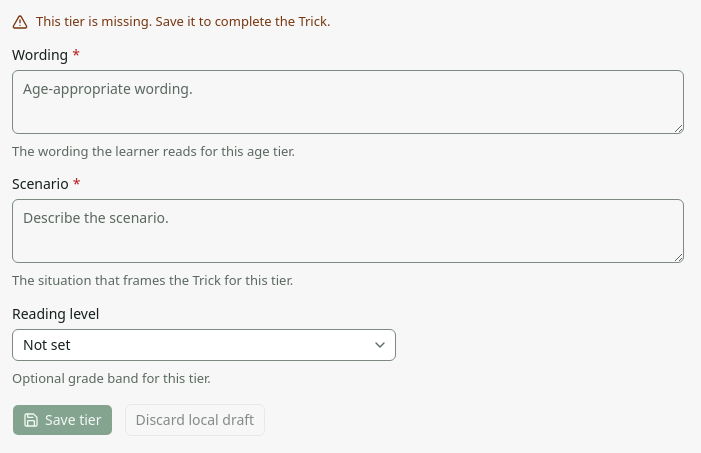
Test case: VariantEditor › warns about a missing tier and saves it via the variant endpoint
Expected: the text "This tier is missing. Save it to complete the Trick." is shown, [12, 12, 330, 30]
In the text box labelled "Wording": (348, 102) [12, 70, 684, 134], type "New wording"
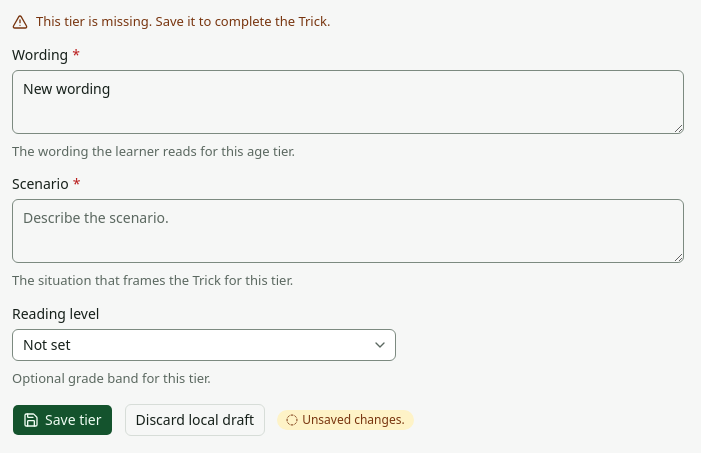
In the text box labelled "Scenario": (348, 231) [12, 199, 684, 263], type "New scenario"
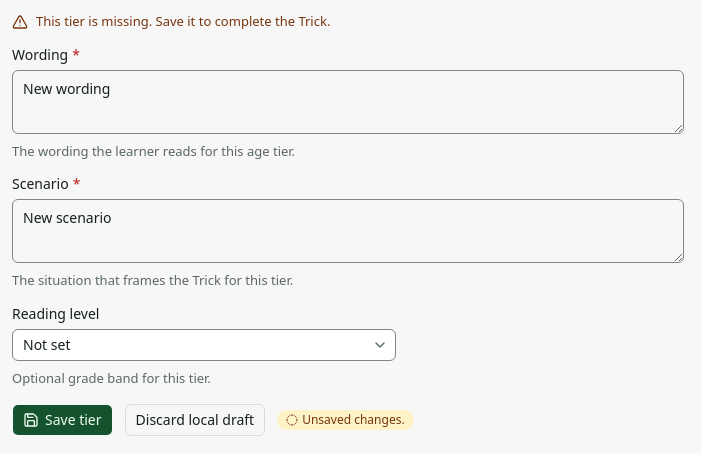
Click the button "Save tier": (62, 420) [12, 404, 112, 436]
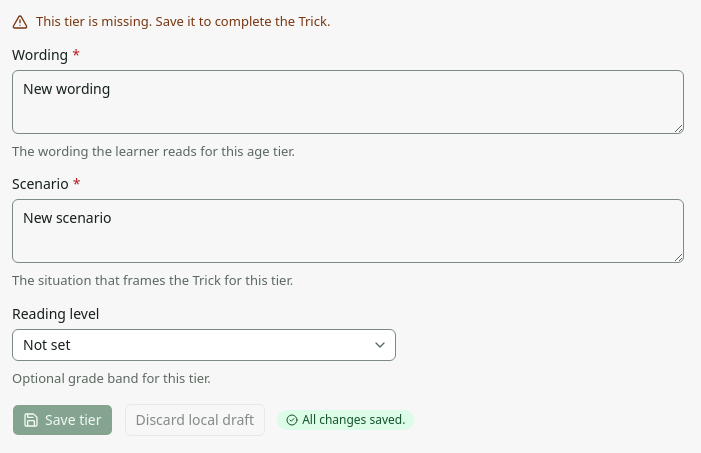
Result: the text "All changes saved." is shown at [277, 410, 414, 430]
